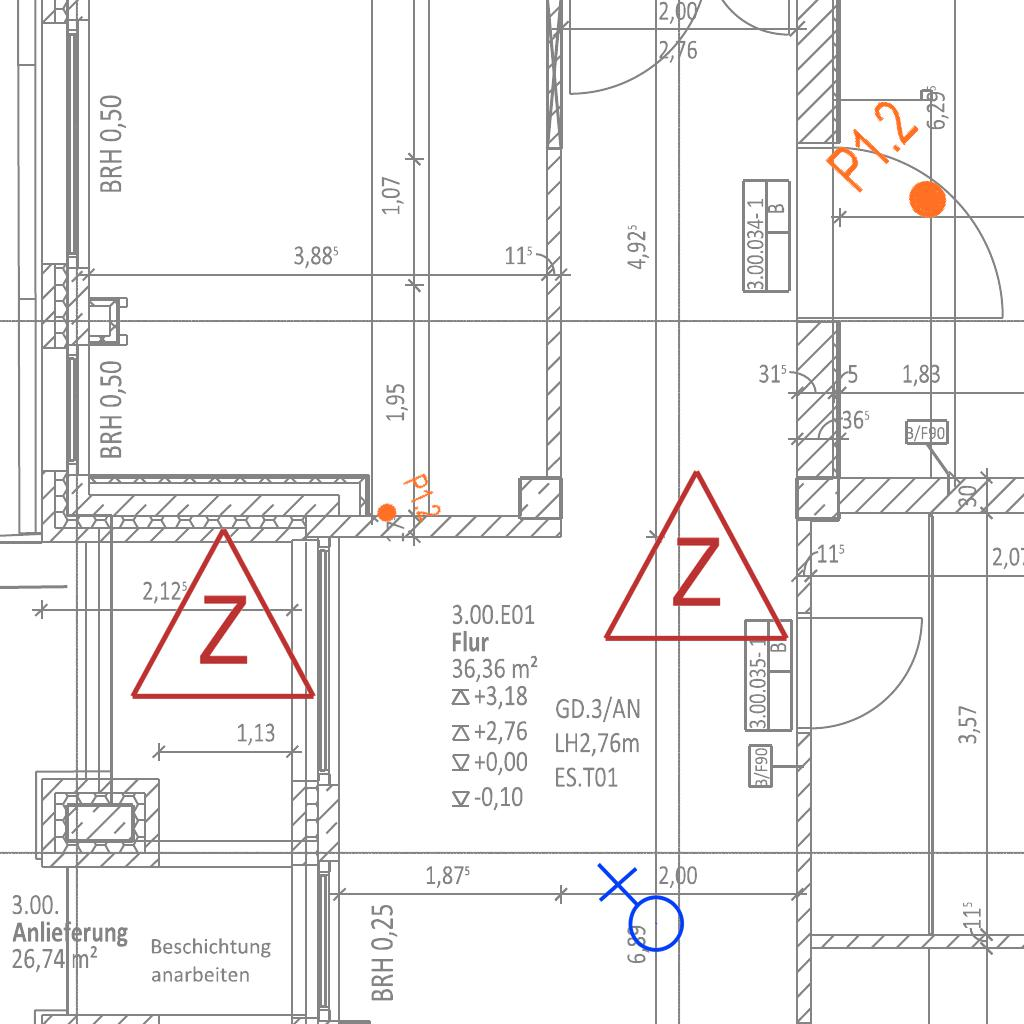Downlight_LED_Einbauleuchten_Flur: (819, 92, 978, 248), (367, 470, 445, 540)
Elektroanschluss_allgemein_230V_Geraeteanschlussdose_230V: (592, 862, 686, 961)
Zimmersignalleuchte: (596, 456, 792, 656), (123, 514, 319, 714)
